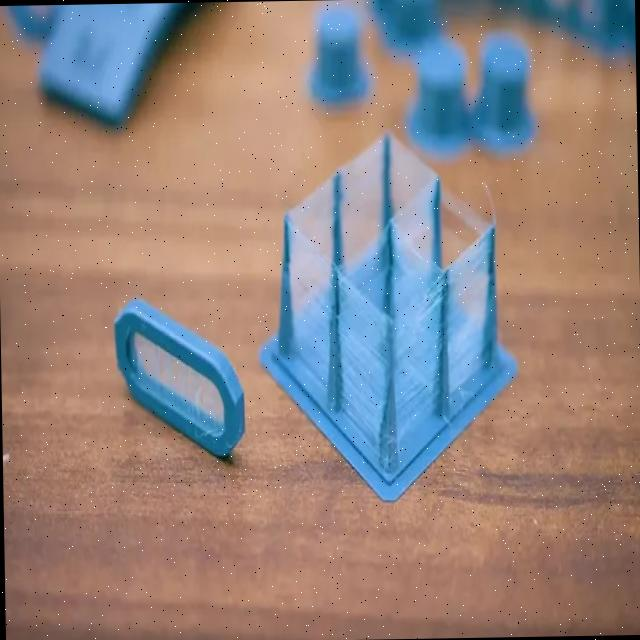stringing: (292, 225, 388, 448), (395, 276, 444, 444), (444, 230, 493, 393), (130, 334, 223, 417), (337, 224, 388, 374), (388, 179, 436, 333), (440, 185, 488, 316), (387, 134, 435, 265), (289, 175, 333, 317), (344, 138, 382, 277)
